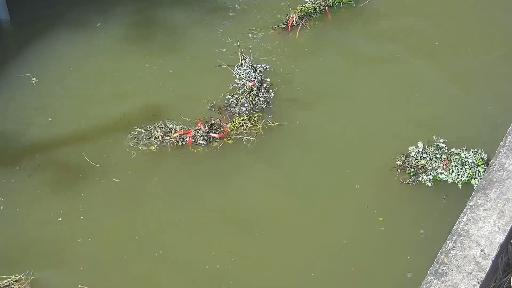twig: (110, 115, 299, 149), (387, 133, 488, 191), (216, 49, 290, 118), (267, 0, 356, 37), (0, 261, 48, 288)
